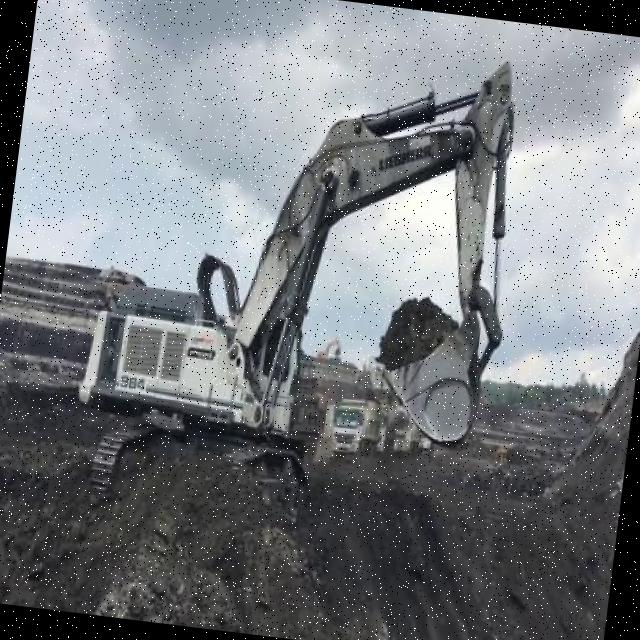Dump Truck: (328, 394, 386, 464), (394, 413, 414, 452)
Excavator: (64, 9, 538, 548)
